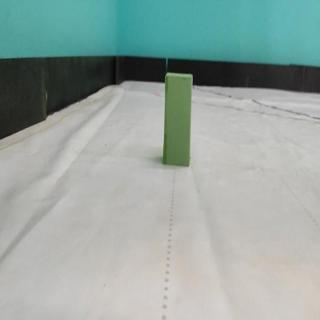greenbox: (161, 72, 196, 168)
